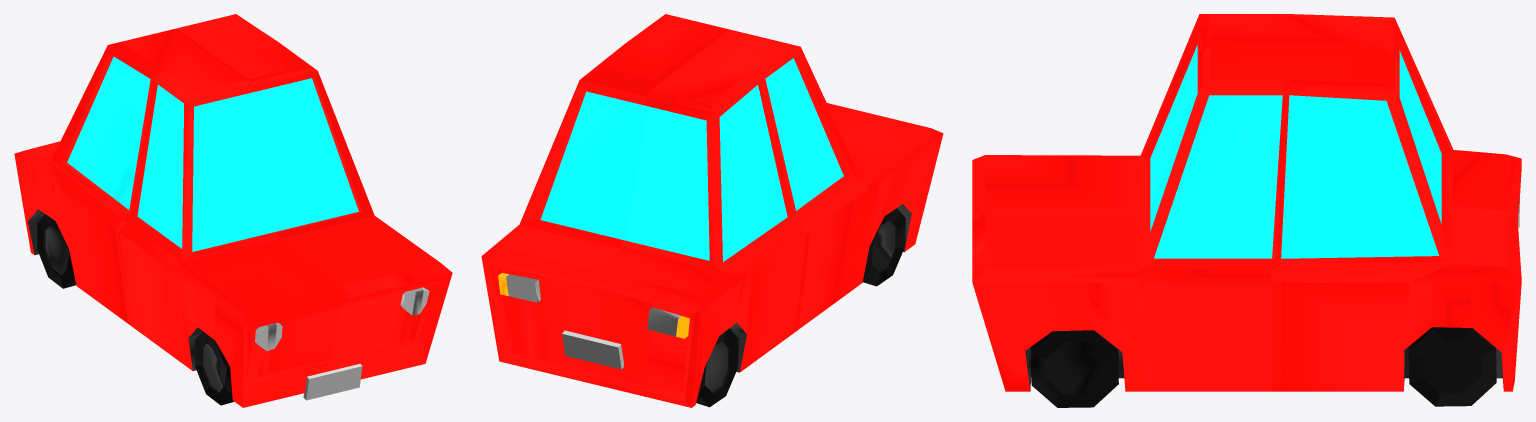
File: Auto.fbx
3 views of the same model, side by side, from view 1: azimuth 30°, elevation 25°; view 2: azimuth 150°, elevation 25°; view 3: azimuth 270°, elevation 25° (orthographic). The views are drawn at different scales.
Visible parts, largest first — view 1: Cube, Cube_001; view 2: Cube, Cube_002; view 3: Cube.
Boxes of the visible parts, box(x1,y1,x2,y2) form: Cube: box(14, 14, 452, 407); Cube_001: box(303, 364, 362, 400); Cube: box(481, 14, 943, 407); Cube_002: box(562, 330, 624, 369); Cube: box(972, 14, 1521, 407).
Bounding box in the file's own units: 212 × 249 × 403.
